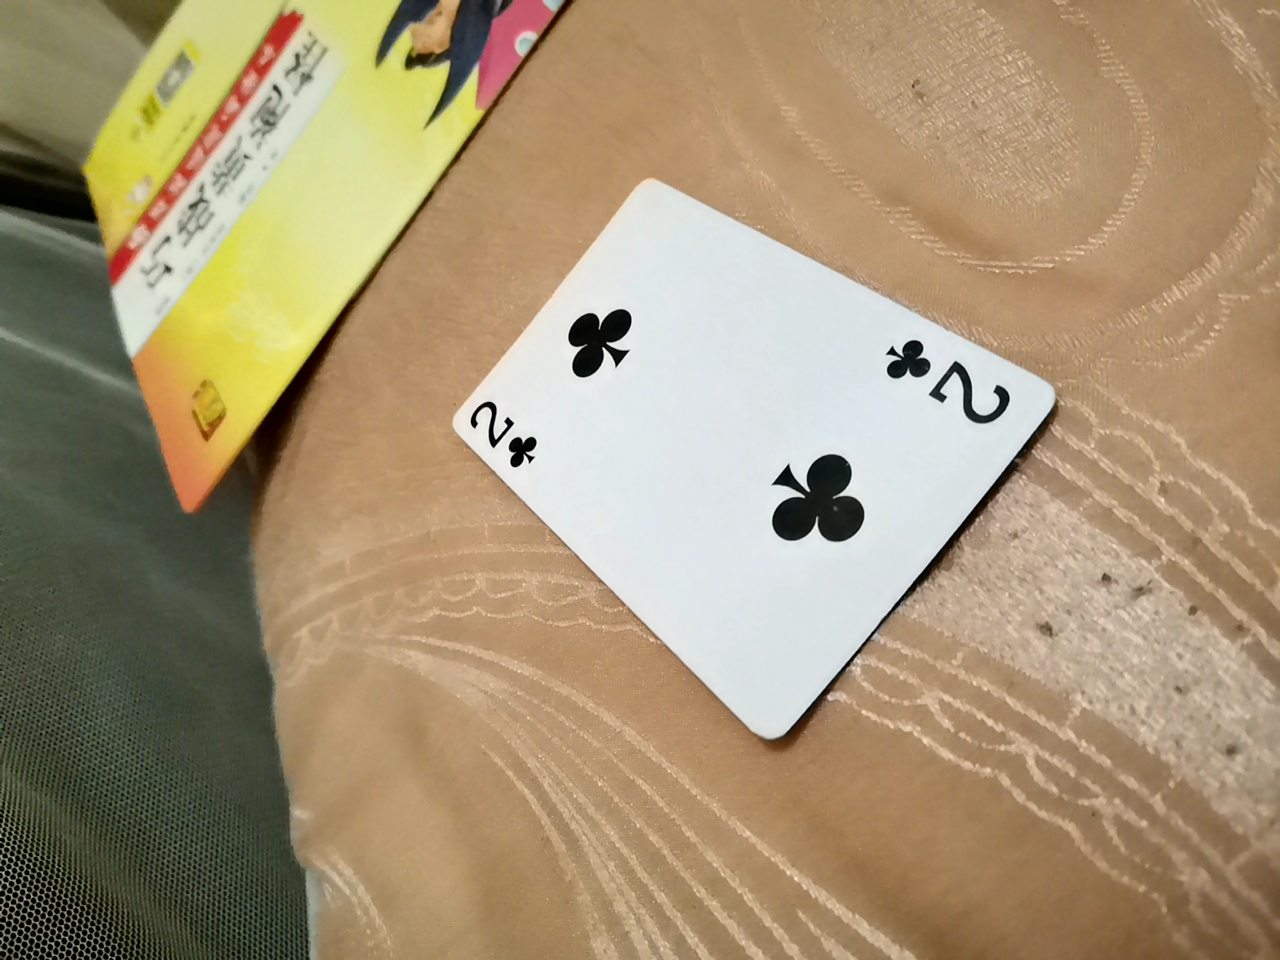mh 2: (467, 177, 1047, 760)
